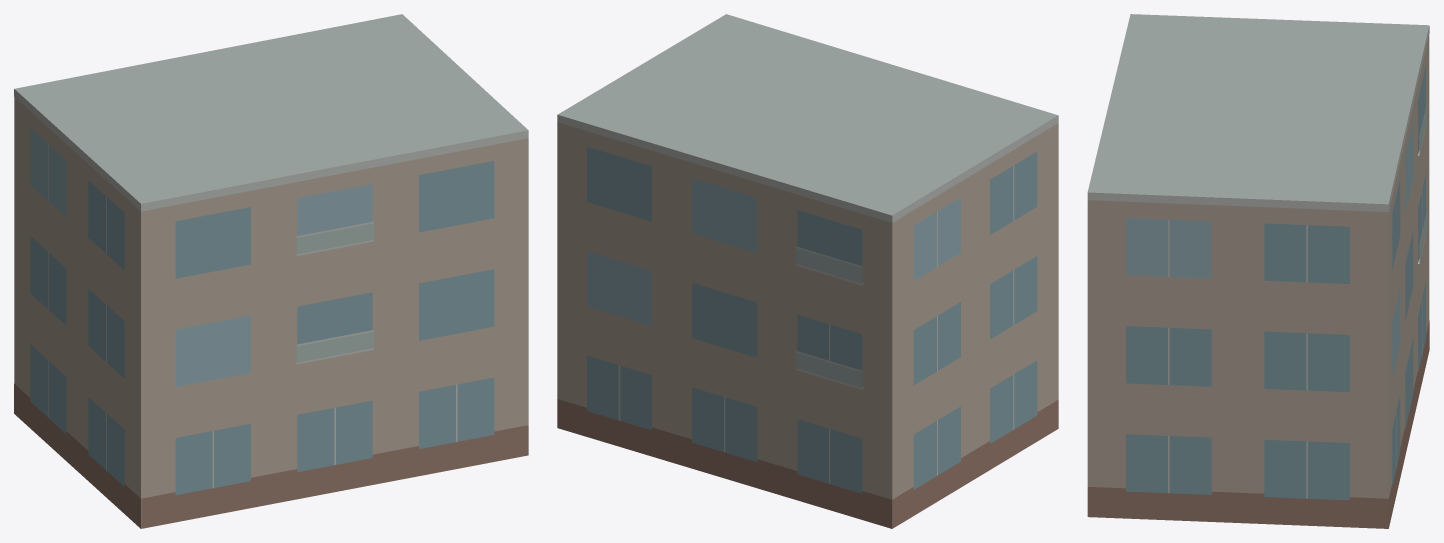
Rendered from survey-upis-32666982.glb.
The picture shows the model from 3 angles, left to right: view 1: azimuth 30°, elevation 25°; view 2: azimuth 150°, elevation 25°; view 3: azimuth 270°, elevation 25°; orthographic projection. The views are drawn at different scales.
Parts seen in each view (by area): view 1: survey-upis-32666982.tmp; view 2: survey-upis-32666982.tmp; view 3: survey-upis-32666982.tmp.
Part boxes in pixels (x1,y1,x2,y2): survey-upis-32666982.tmp: (14,14,528,528); survey-upis-32666982.tmp: (557,14,1058,528); survey-upis-32666982.tmp: (1087,14,1429,528).
Bounding box in the file's own units: 12.84 × 10.2 × 9.75.
